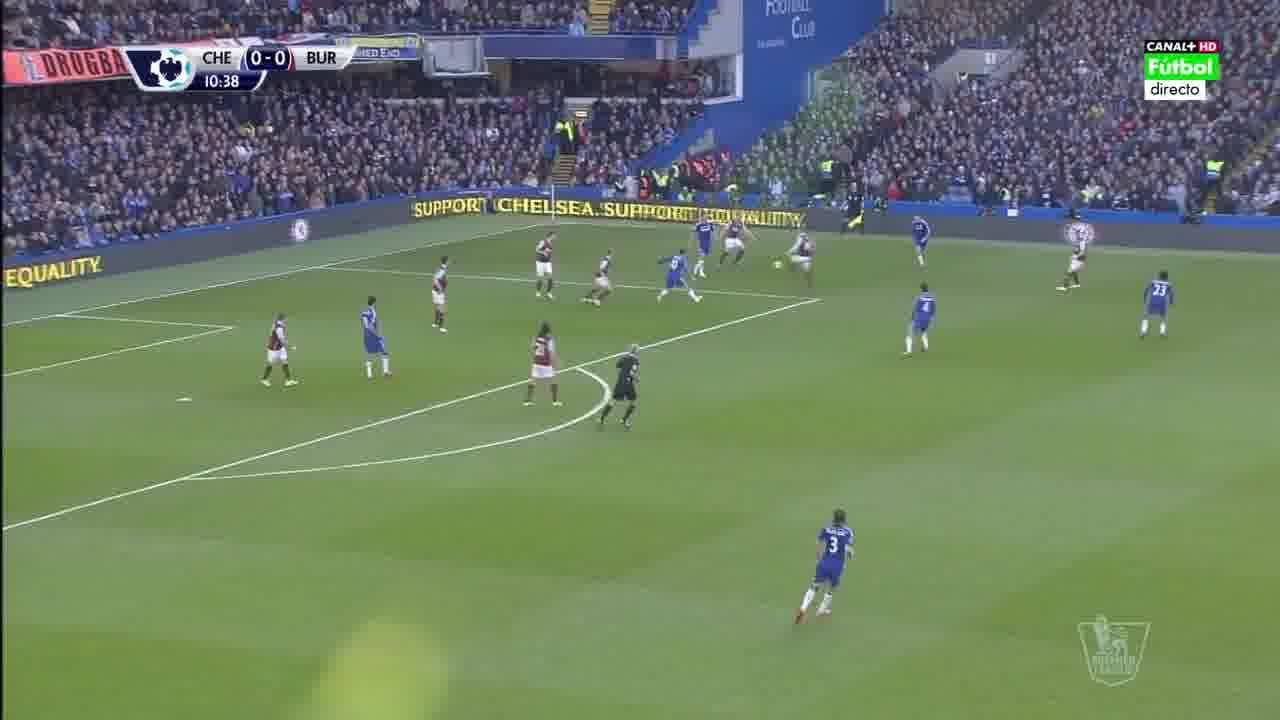football: (770, 259, 784, 271)
